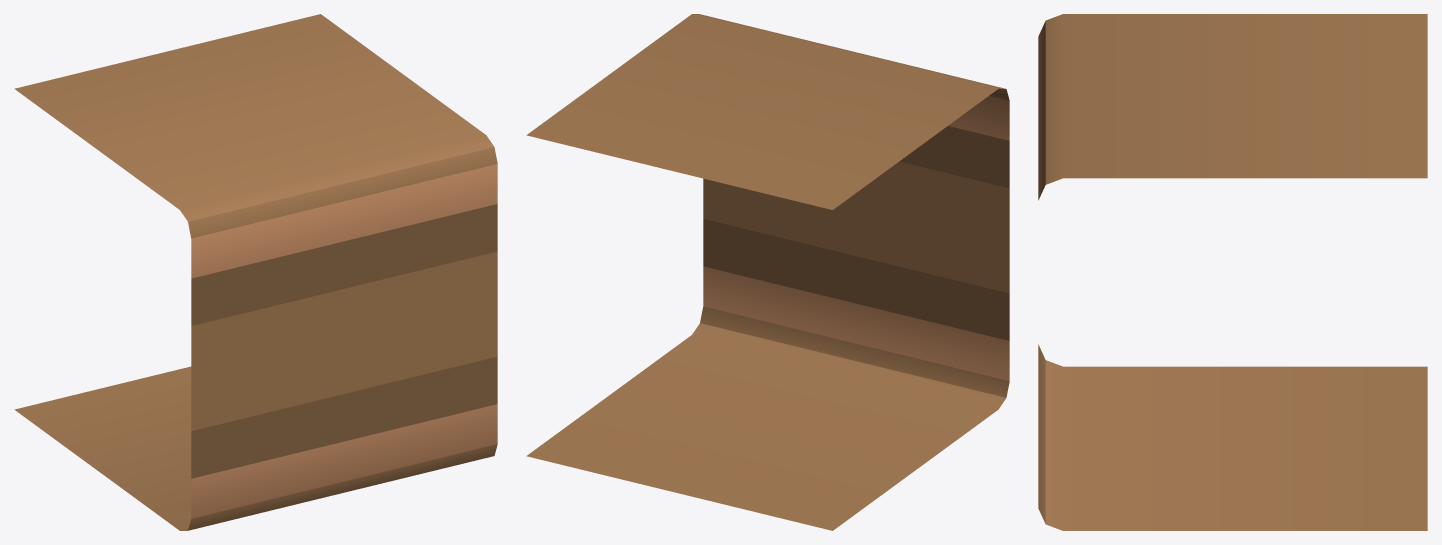
The model's file is Cube_Dirt_Side.fbx.
3 views of the same model, side by side, from view 1: azimuth 30°, elevation 25°; view 2: azimuth 150°, elevation 25°; view 3: azimuth 270°, elevation 25° (orthographic). The views are drawn at different scales.
Parts seen in each view (by area): view 1: Cube_Dirt_Side; view 2: Cube_Dirt_Side; view 3: Cube_Dirt_Side.
Boxes of the visible parts, x1,y1,x2,y2 form: Cube_Dirt_Side: [14, 14, 497, 530]; Cube_Dirt_Side: [526, 14, 1009, 530]; Cube_Dirt_Side: [1038, 14, 1427, 530].
Bounding box in the file's own units: 200 × 200 × 200.
